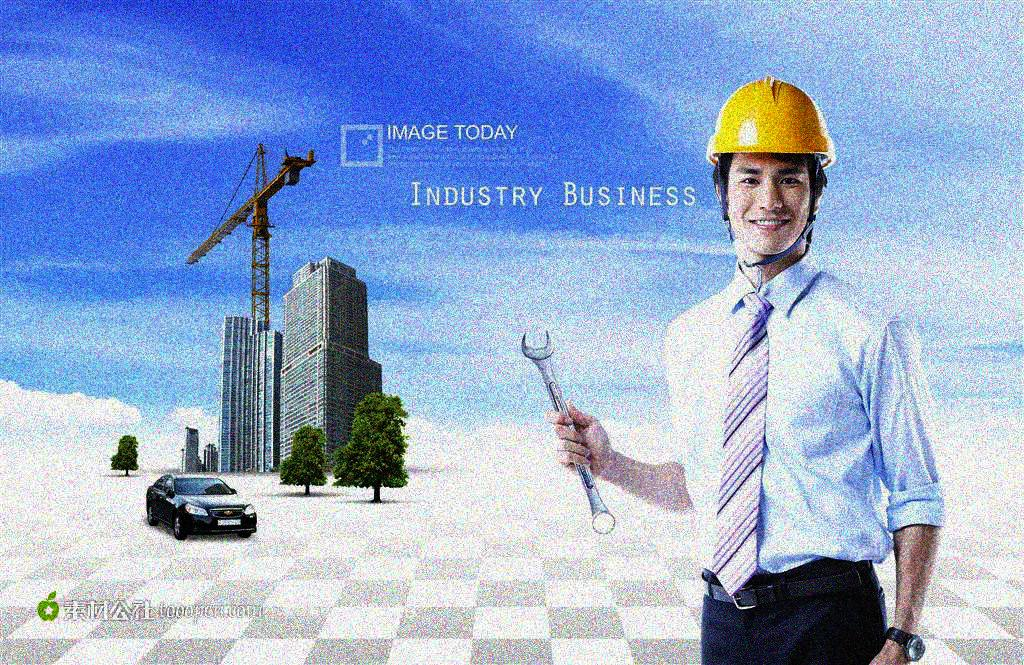helmet: (707, 76, 839, 260)
